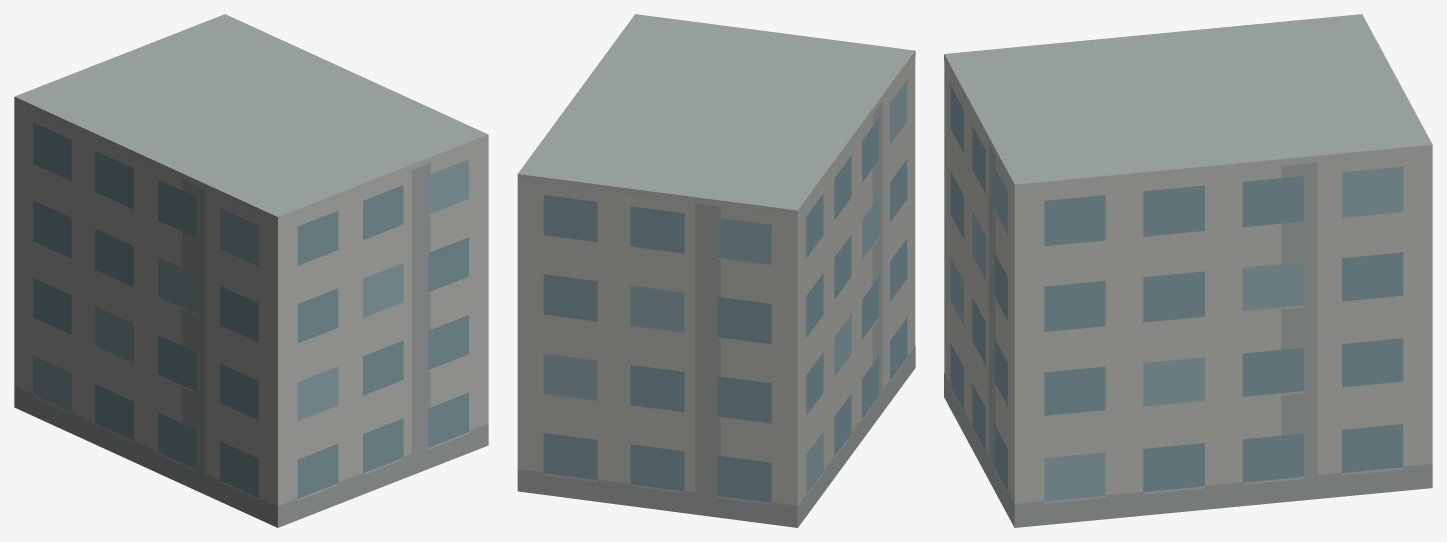
File: survey-upis-32512174.glb
3 renders of one model, left to right at view 1: azimuth 30°, elevation 25°; view 2: azimuth 150°, elevation 25°; view 3: azimuth 270°, elevation 25°, orthographic. The views are drawn at different scales.
Parts seen in each view (by area): view 1: survey-upis-32512174.tmp; view 2: survey-upis-32512174.tmp; view 3: survey-upis-32512174.tmp.
Boxes of the visible parts, x1=… form: survey-upis-32512174.tmp: x1=14, y1=14, x2=488, y2=527; survey-upis-32512174.tmp: x1=517, y1=14, x2=915, y2=527; survey-upis-32512174.tmp: x1=944, y1=14, x2=1432, y2=527.
Bounding box in the file's own units: 13.02 × 12.2 × 15.75.
